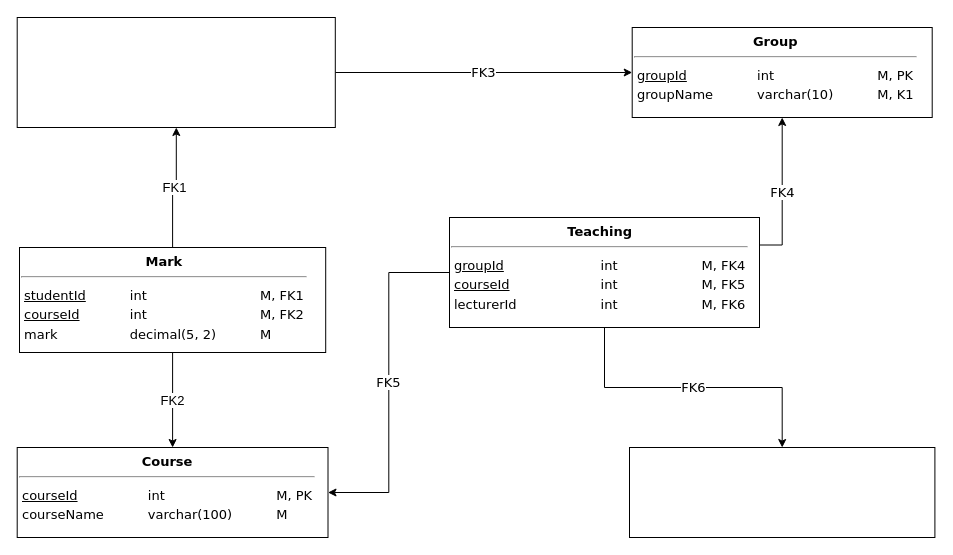
Some shapes in this 953 by 555 pixel diagram are drawn without their labels. The shapes that lost their labels are listed below. From the top down, each one's centre as x and y in pixels, then its label:
At point 175,72: "Student student_id int M, PK studentName varchar(50) M group_id int M, FK3".
At point 781,492: "Teacher teacherId int M, PK teacherName varchar(50) M".
